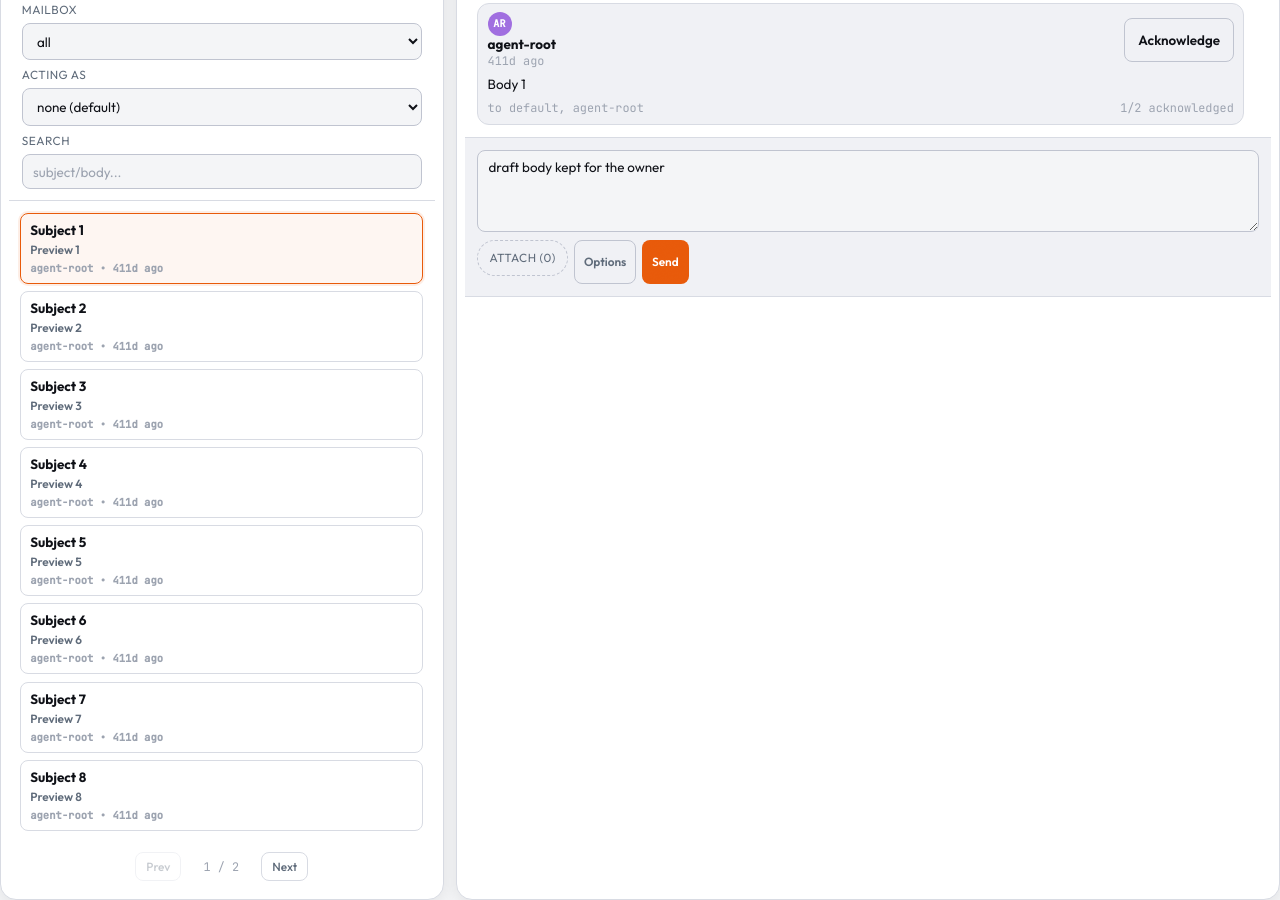
Test: MailPage direct-mail parity › paginates threads at the exact eight-item boundary
(page scrolled)
Step 1. Click the button with class "mc-pagination-btn" showing "Next" → {"x": 285, "y": 866}, box [261,852,308,881]
(page scrolled)
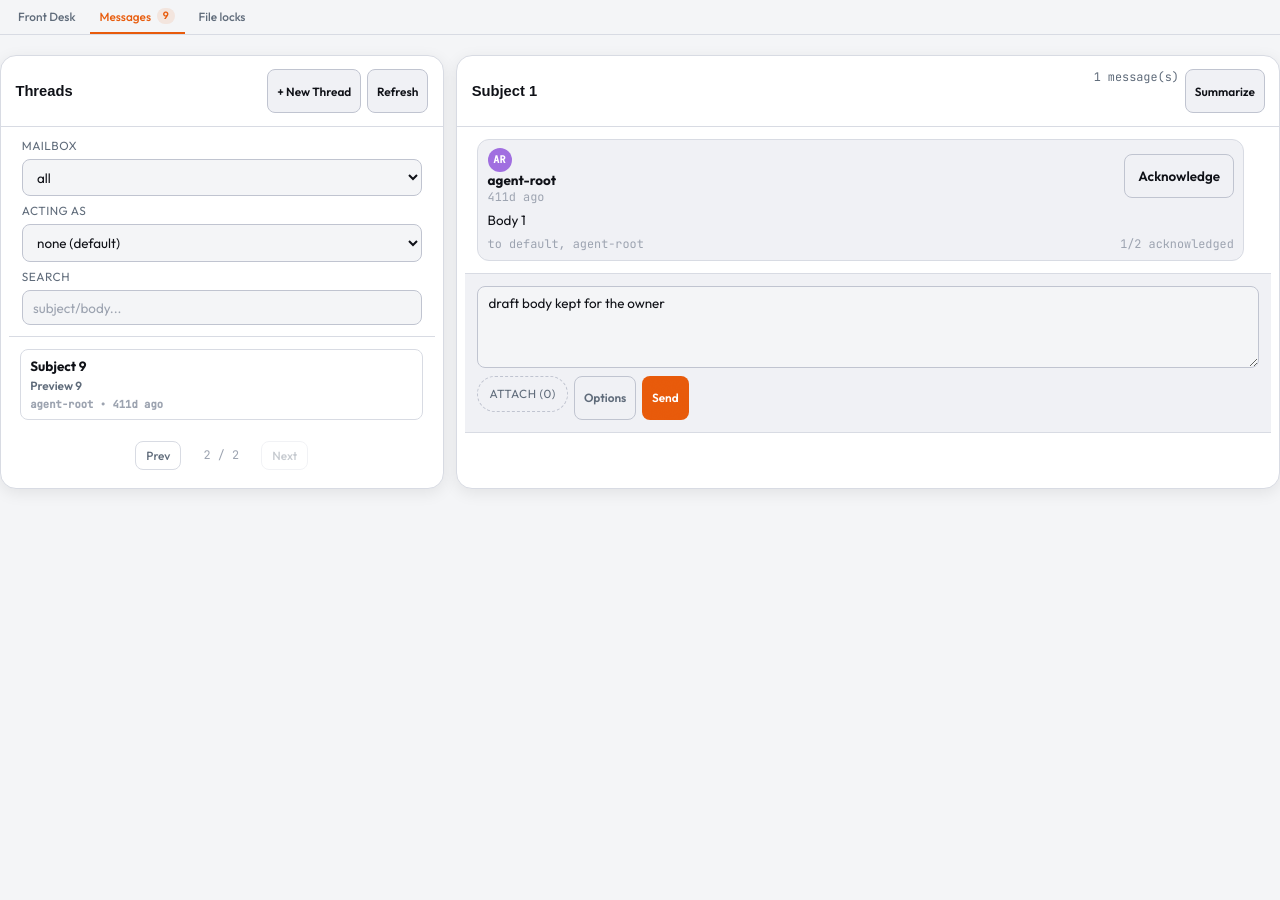
Expected: the number of buttons with class "mc-mail-thread-item" is 1, [20,348,423,420]
Expected: the text "Subject 9" is shown, [30,358,86,374]
Expected: the button with class "mc-pagination-btn" showing "Next" is disabled, [261,441,308,470]
Step 2. Click the button with class "mc-pagination-btn" showing "Prev" → {"x": 158, "y": 455}, box [135,441,181,470]
(page scrolled)
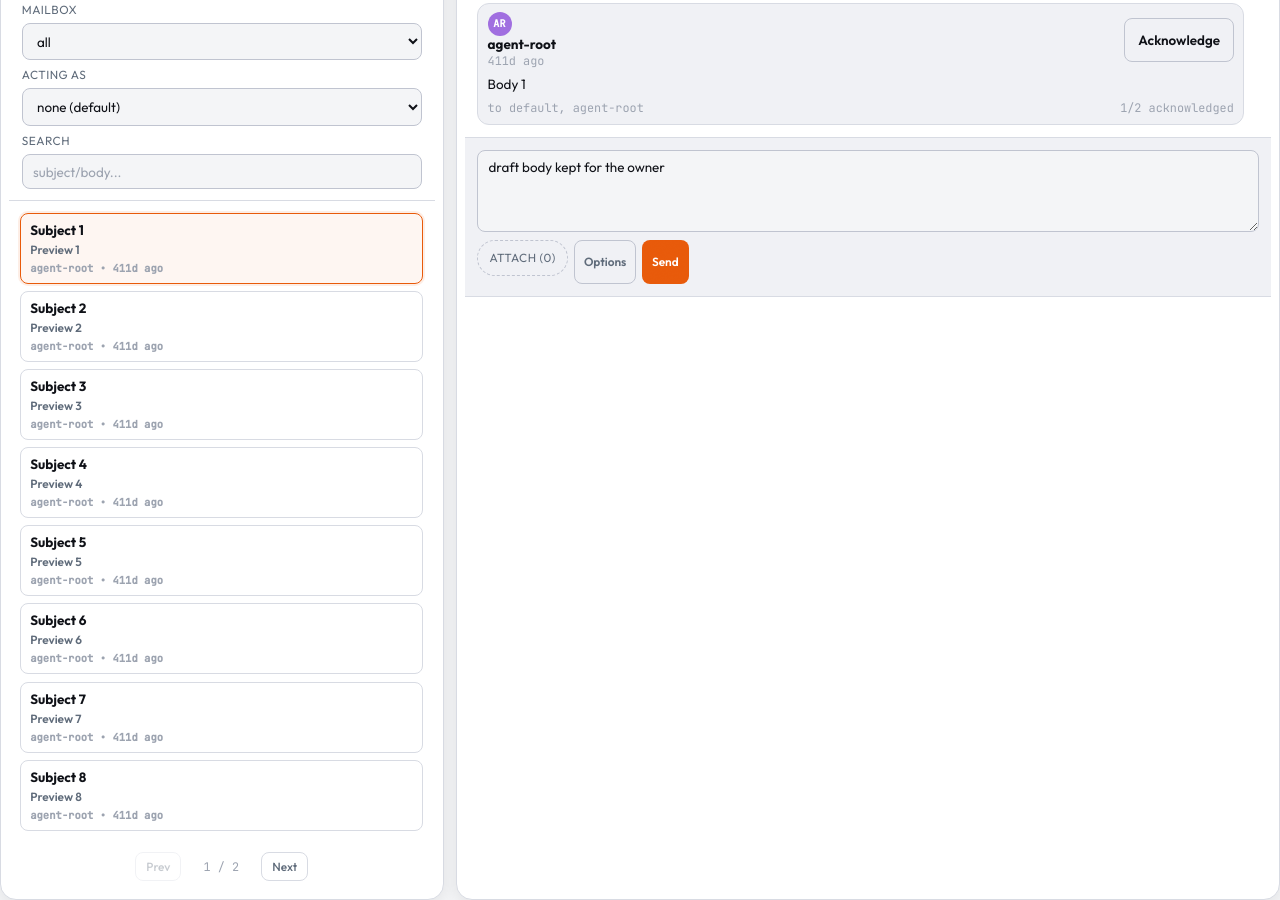
Expected: the button with class "mc-pagination-btn" showing "Prev" is disabled, [135,852,181,881]
